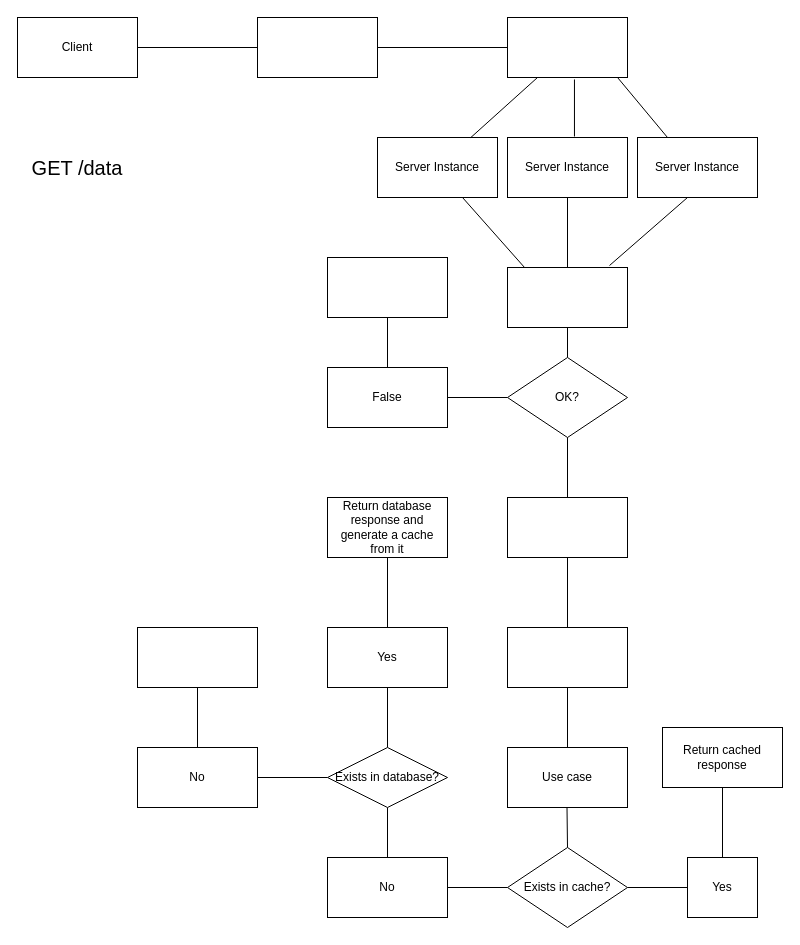
Some shapes in this 800 by 945 pixel diagram are drawn without their labels. The shapes that lost their labels are listed below. From the top down, each one's centre as x and y in pixels, then its label:
At point (317, 47): "Request".
At point (567, 47): "Load Balancer".
At point (387, 287): "Throw Validation Exception".
At point (567, 297): "Validator".
At point (567, 527): "True".
At point (197, 657): "Throw Not Found Exception".
At point (567, 657): "Controller".
